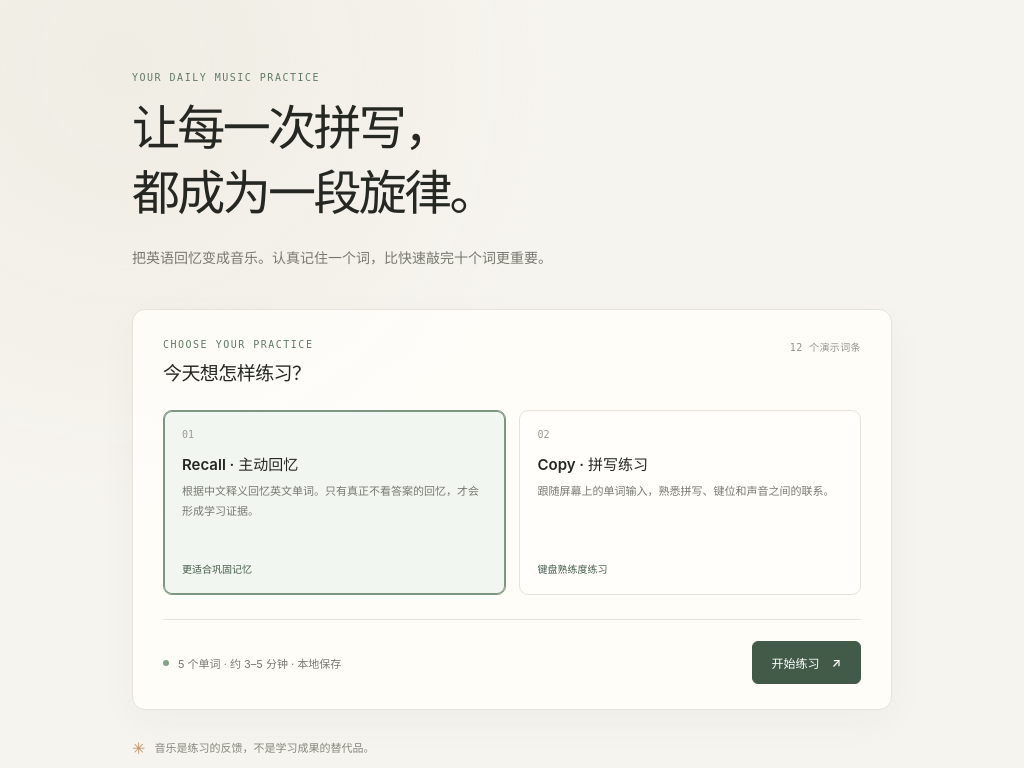
it: PracticeScreen › starts a Recall session and presents a focused answer field
This screenshot has width=1024, height=768.
Click the button "开始练习 ↗" at (806, 663), box [752,641,861,684]
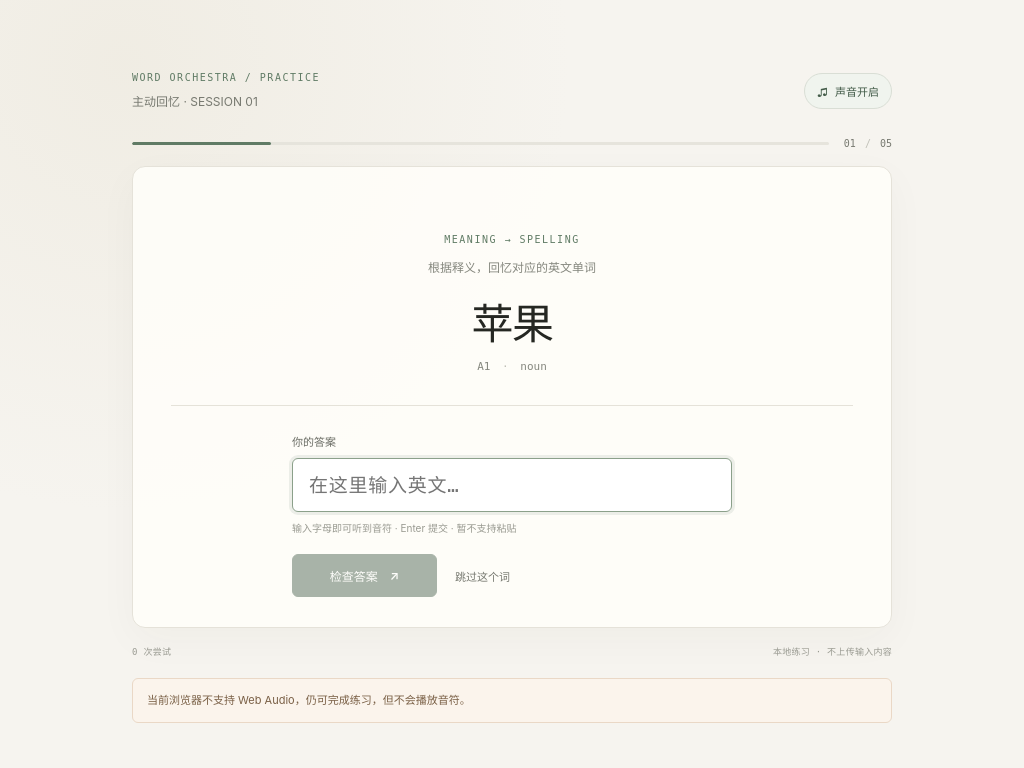
Expected: the field named "输入英文单词" is shown, [292,458,732,512]
Expected: the heading "苹果" is shown, [472,290,553,350]
